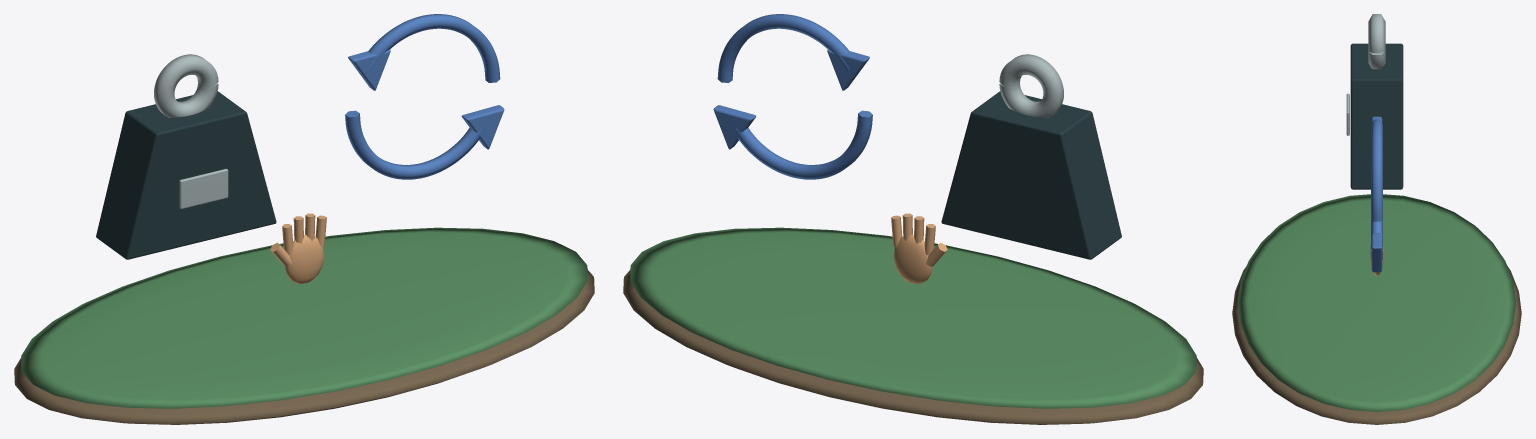
Rendered from complete-first-repeat-weight.glb.
3 views of the same model, side by side, from view 1: azimuth 30°, elevation 25°; view 2: azimuth 150°, elevation 25°; view 3: azimuth 270°, elevation 25° (orthographic). The views are drawn at different scales.
Parts seen in each view (by area): view 1: complete-first-repeat-weight_surface_01, complete-first-repeat-weight_surface_02, complete-first-repeat-weight_surface_00, complete-first-repeat-weight_surface_04, complete-first-repeat-weight_surface_03, complete-first-repeat-weight_surface_05; view 2: complete-first-repeat-weight_surface_01, complete-first-repeat-weight_surface_02, complete-first-repeat-weight_surface_00, complete-first-repeat-weight_surface_04, complete-first-repeat-weight_surface_03, complete-first-repeat-weight_surface_05; view 3: complete-first-repeat-weight_surface_01, complete-first-repeat-weight_surface_02, complete-first-repeat-weight_surface_00, complete-first-repeat-weight_surface_04, complete-first-repeat-weight_surface_03.
Part boxes in pixels (<box>): complete-first-repeat-weight_surface_01: <box>21,227,587,408</box>; complete-first-repeat-weight_surface_02: <box>96,91,276,259</box>; complete-first-repeat-weight_surface_00: <box>14,270,594,424</box>; complete-first-repeat-weight_surface_04: <box>345,14,504,179</box>; complete-first-repeat-weight_surface_03: <box>154,54,228,208</box>; complete-first-repeat-weight_surface_05: <box>270,213,326,283</box>; complete-first-repeat-weight_surface_01: <box>630,227,1196,408</box>; complete-first-repeat-weight_surface_02: <box>941,91,1121,259</box>; complete-first-repeat-weight_surface_00: <box>623,270,1203,424</box>; complete-first-repeat-weight_surface_04: <box>713,14,872,179</box>; complete-first-repeat-weight_surface_03: <box>999,54,1063,117</box>; complete-first-repeat-weight_surface_05: <box>891,213,947,283</box>; complete-first-repeat-weight_surface_01: <box>1238,194,1515,411</box>; complete-first-repeat-weight_surface_02: <box>1350,43,1403,189</box>; complete-first-repeat-weight_surface_00: <box>1232,266,1521,424</box>; complete-first-repeat-weight_surface_04: <box>1371,116,1382,272</box>; complete-first-repeat-weight_surface_03: <box>1346,14,1385,135</box>.
Bounding box in the file's own units: 4.56 × 2.5 × 2.5.
